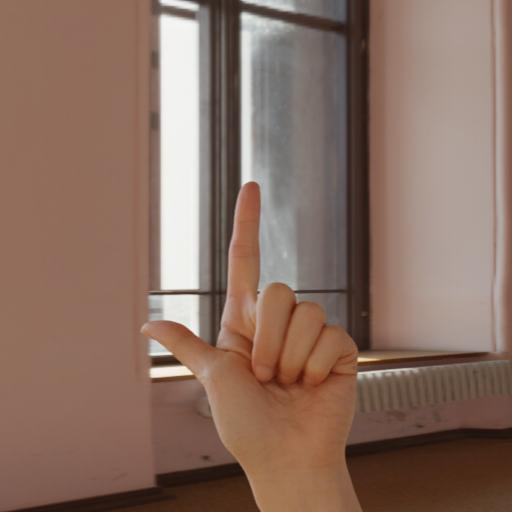L: (138, 170, 372, 512)
